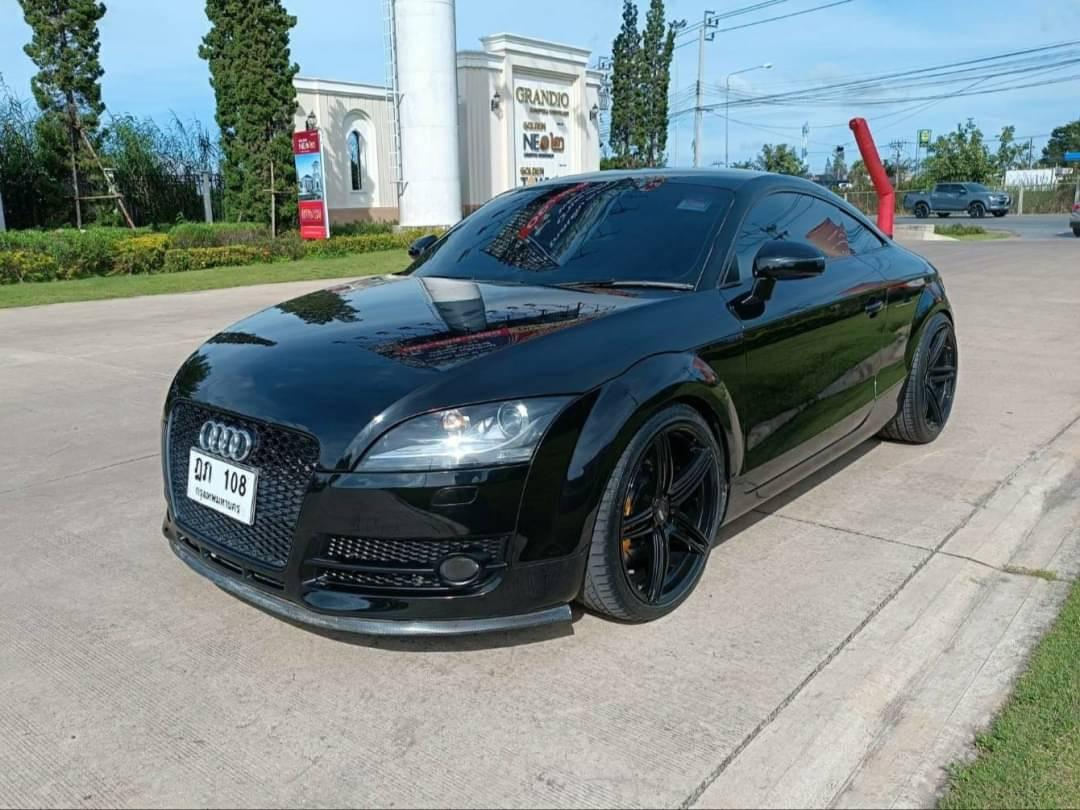license-plate: (184, 442, 264, 529)
